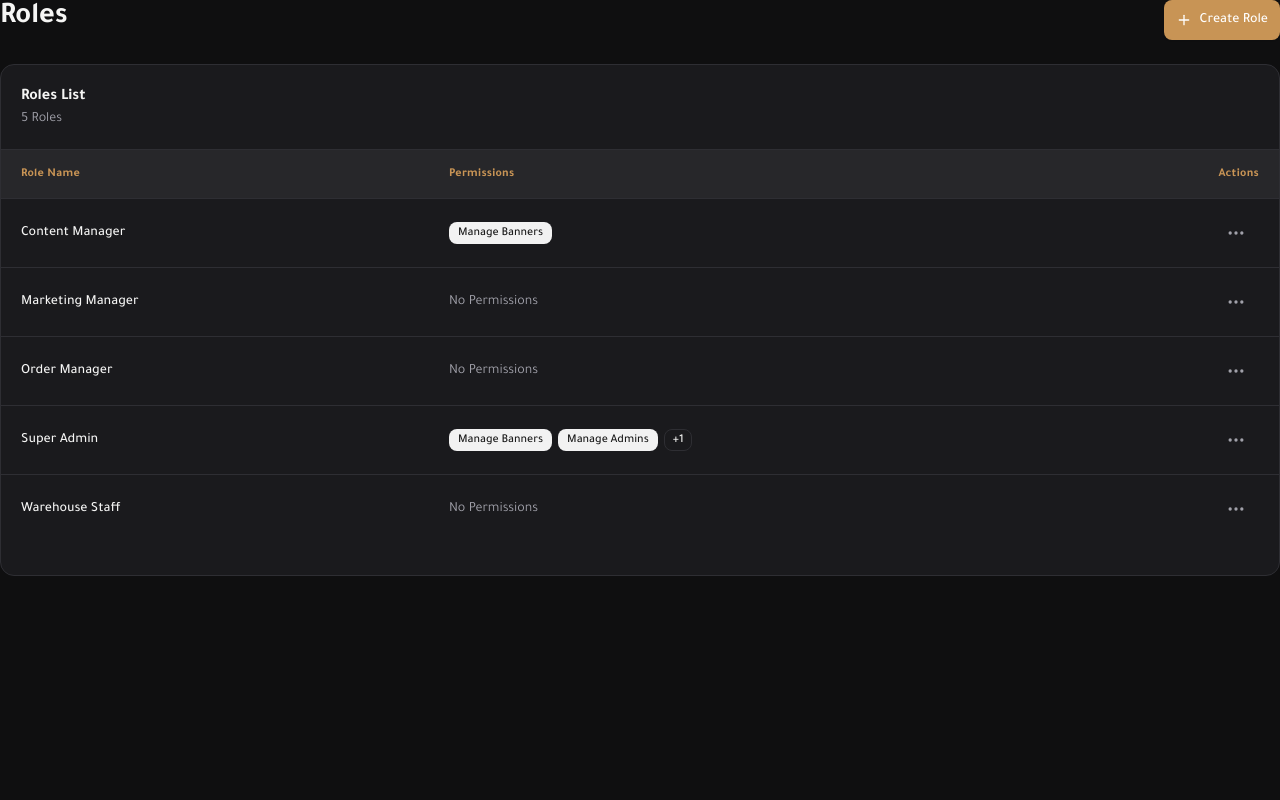
Test case: RolesPage › loads edit detail, guards pristine updates, and closes after a changed update
Click the button named "Actions for Content Manager" at (1236, 232), box [1218,214,1254,250]
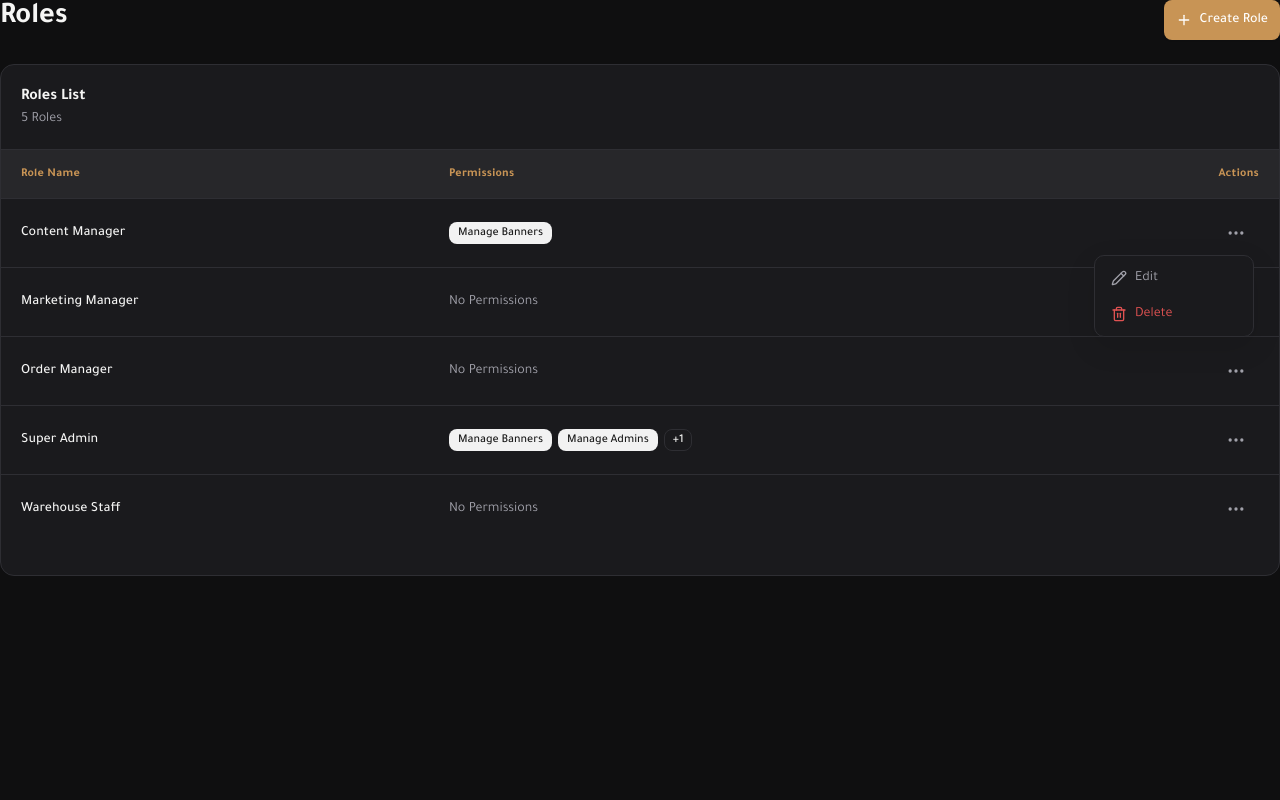
Click the menu item "Edit" at (1135, 278), box [1111,270,1158,286]
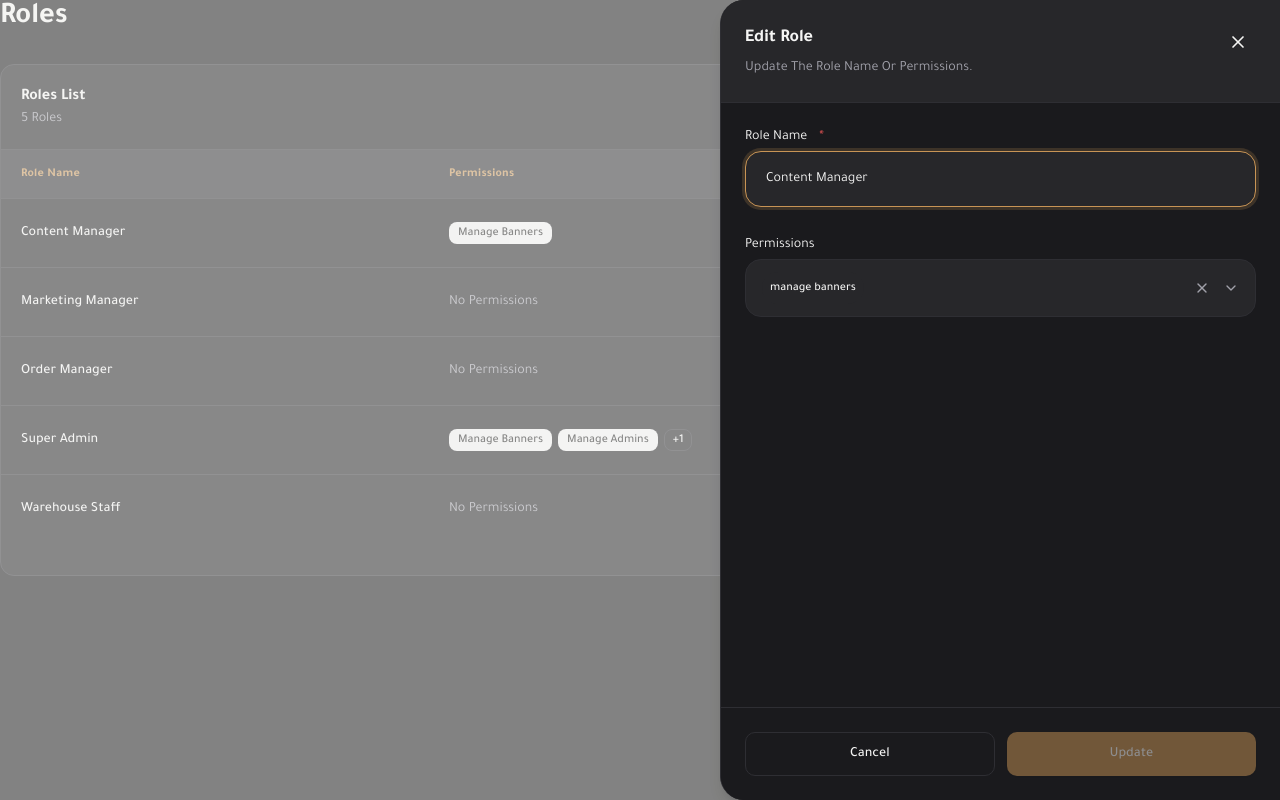
Expected: the element showing "Role Name * Permissions manage banners" is shown, [745,130,1256,317]
Expected: the field labelled "Role Name *" holds "Content Manager", [754,161,1247,197]
Click the button named "Permissions" at (813, 288), box [745,259,1256,317]
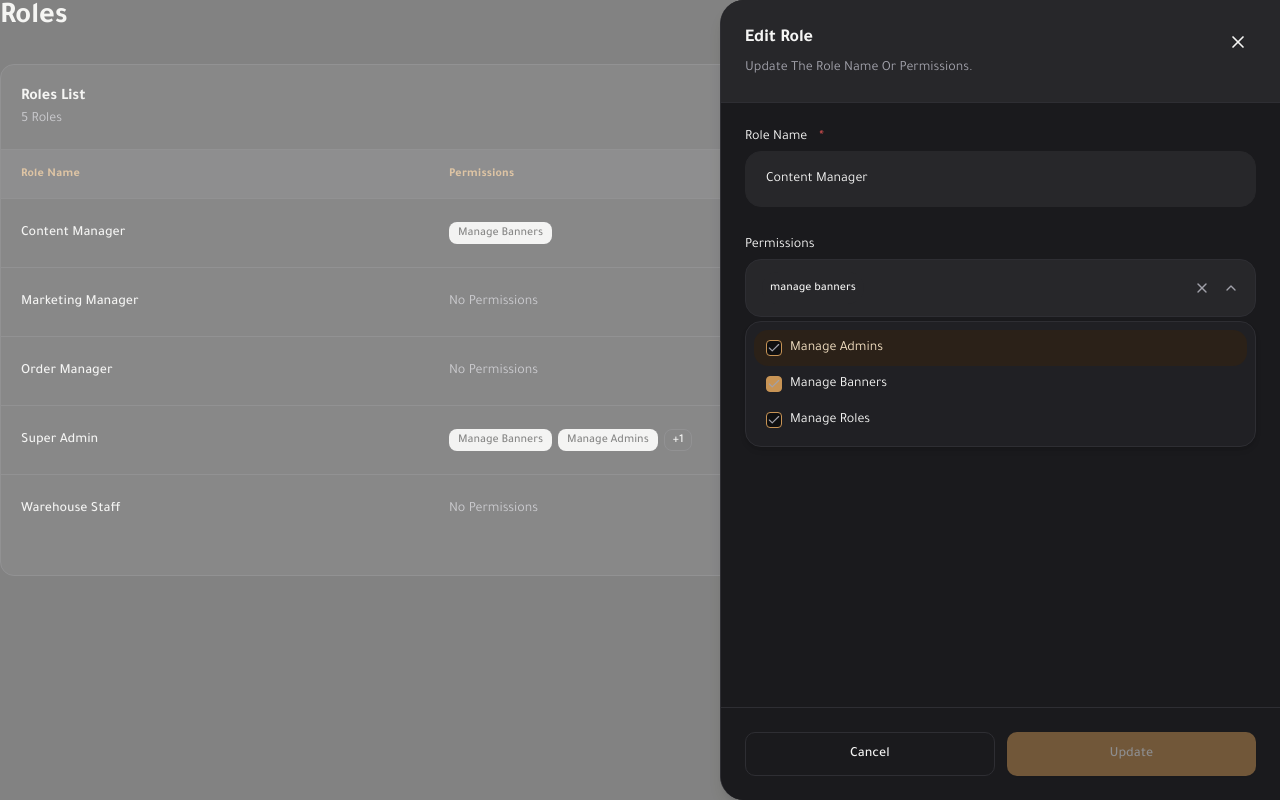
Press Escape
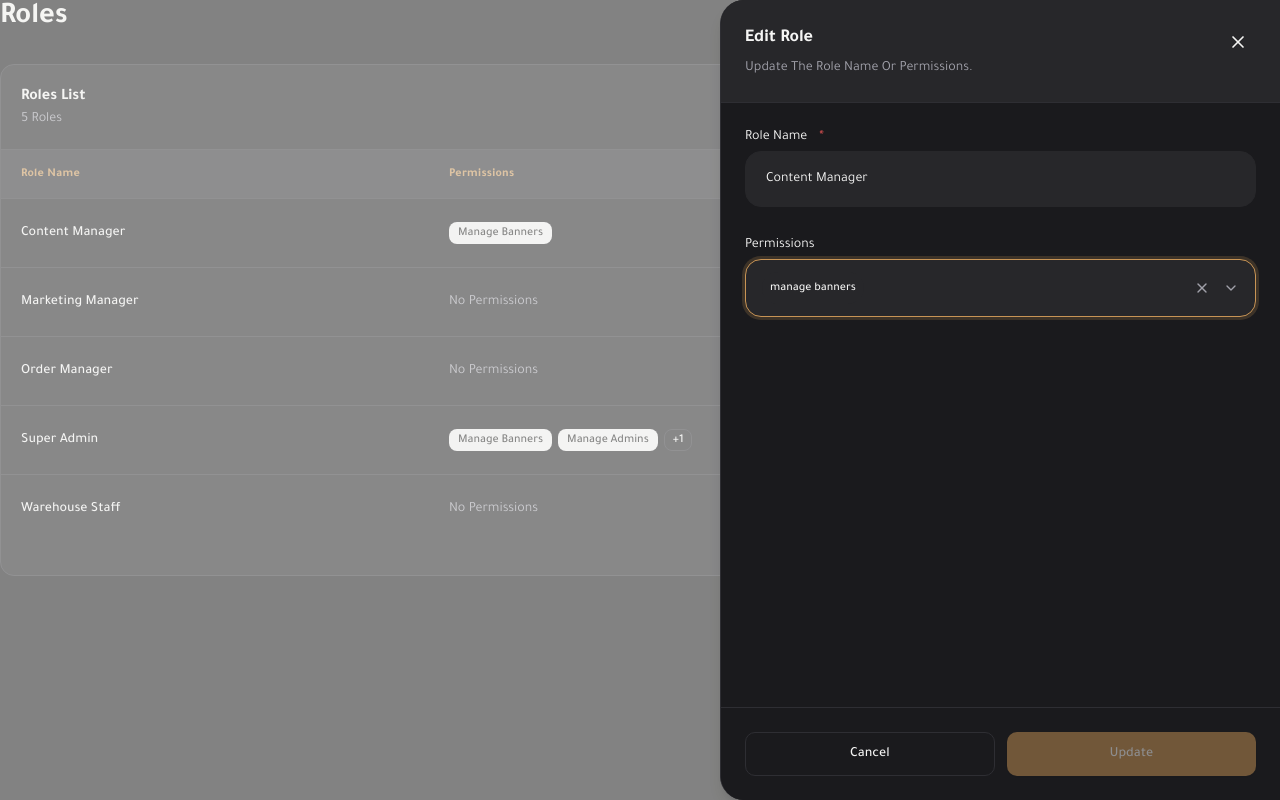
Expected: the button "Update" is disabled, [1006,732,1256,776]
Replace the text in the field labelled "Role Name *" with "Editorial Manager" at (1000, 179), box [754,161,1247,197]
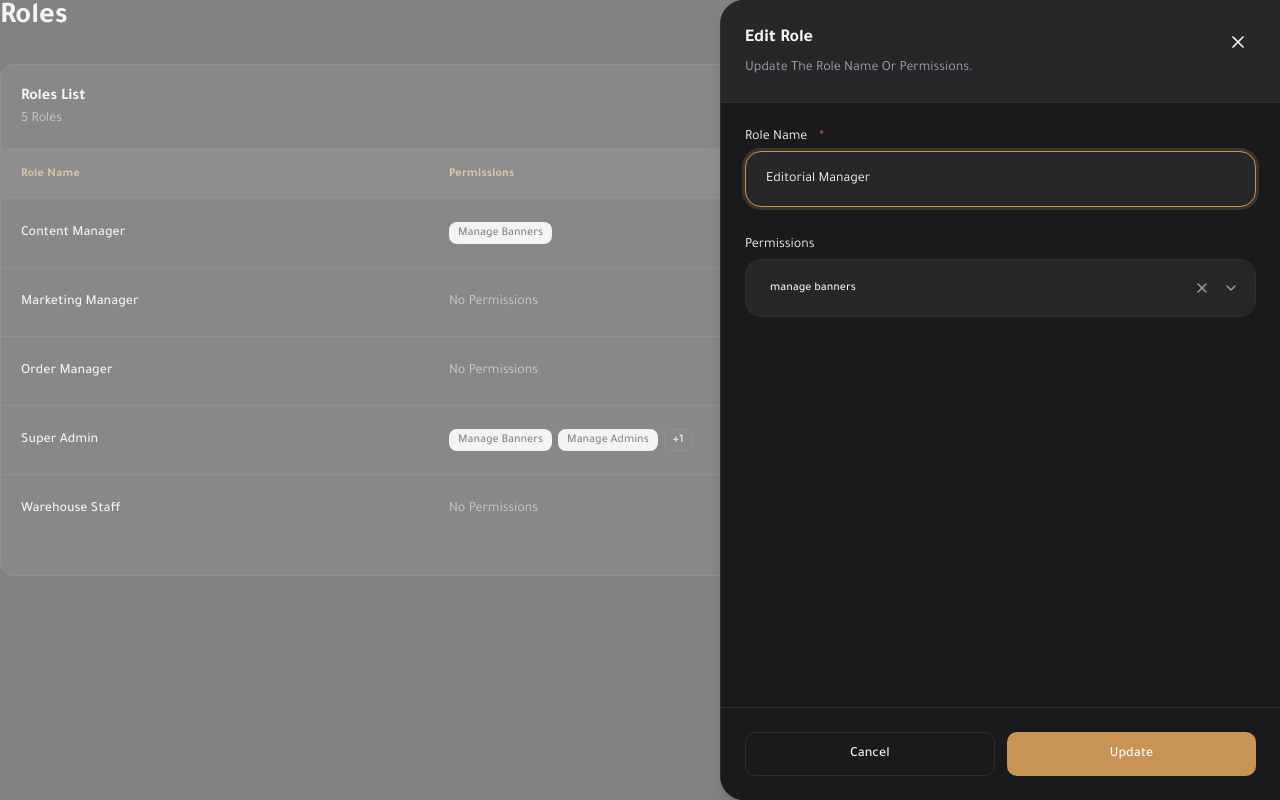
Expected: the button "Update" is enabled
Click the button "Update" at (1131, 754), box [1006,732,1256,776]
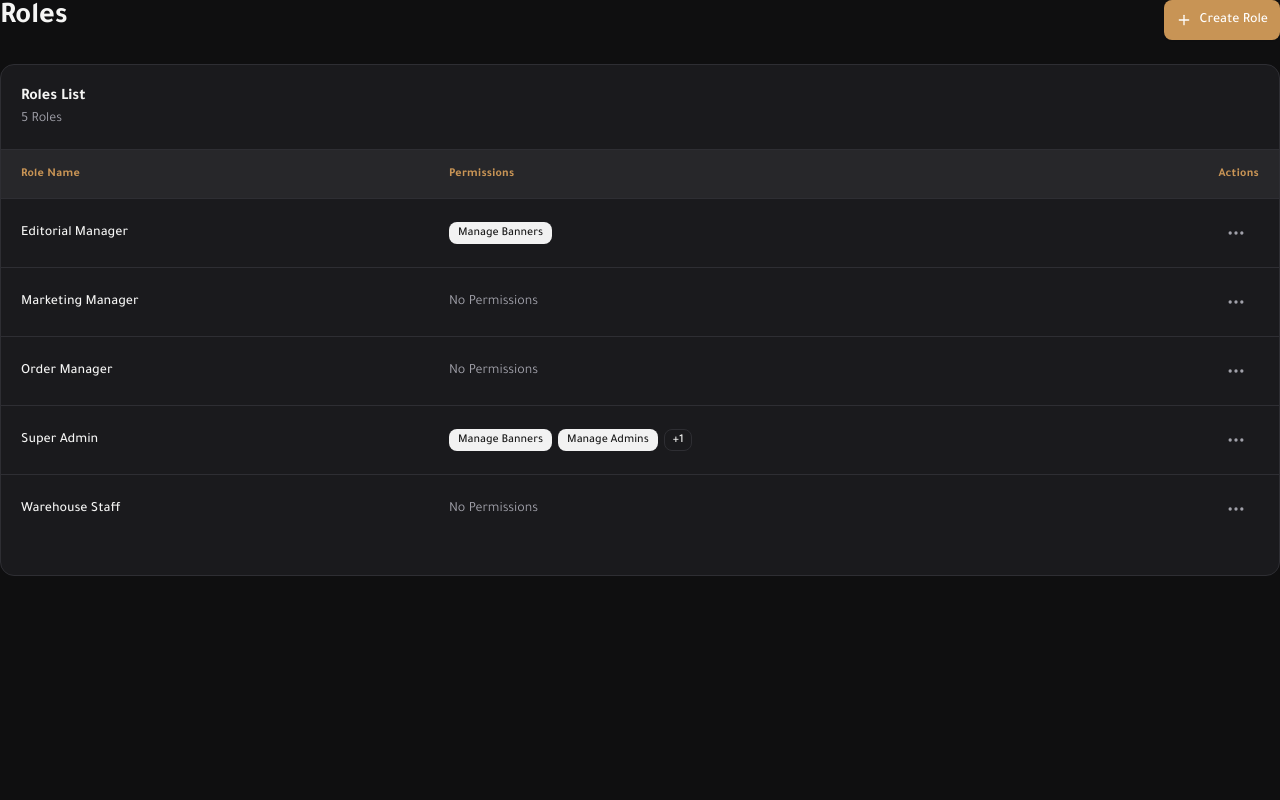
Expected: the dialog is gone
